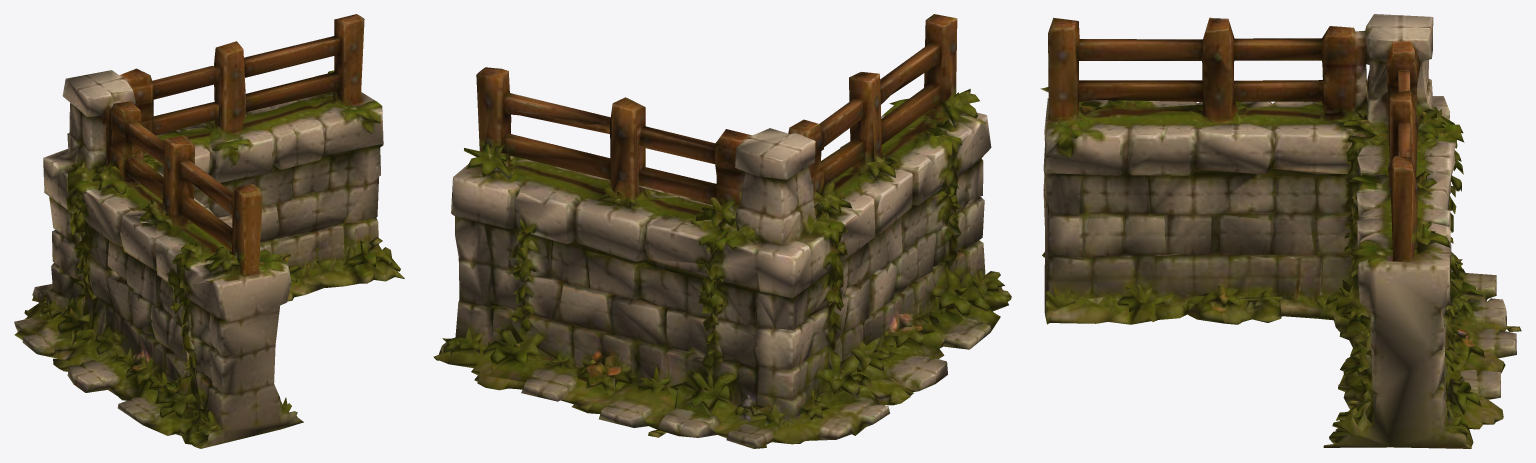
File: terrace-wall.glb
3 views of the same model, side by side, from view 1: azimuth 30°, elevation 25°; view 2: azimuth 150°, elevation 25°; view 3: azimuth 270°, elevation 25° (orthographic). The views are drawn at different scales.
Parts seen in each view (by area): view 1: Mesh1.0; view 2: Mesh1.0; view 3: Mesh1.0.
Part boxes in pixels (bbox=[...]): Mesh1.0: bbox=[14, 14, 404, 448]; Mesh1.0: bbox=[433, 14, 1011, 448]; Mesh1.0: bbox=[1040, 14, 1521, 448].
Size of the model in its own units: 1.89 by 1.21 by 1.91.
Materials: 1 (1 with a texture image).
